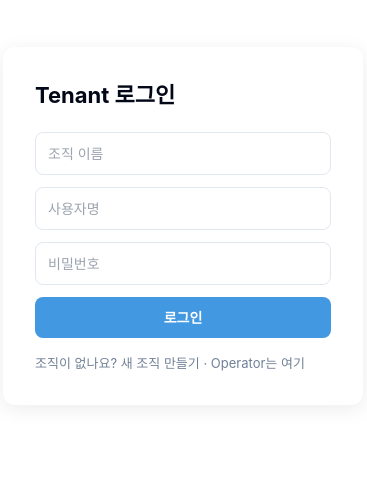
Test: TenantLogin — 가입/로그인 + 비밀번호 확인·정책 (issue 209·211) › 중복 조직 이름(409)이면 안내 메시지를 보여준다
This screenshot has width=367, height=493.
Click the link "새 조직 만들기": (160, 363) [121,355,200,371]
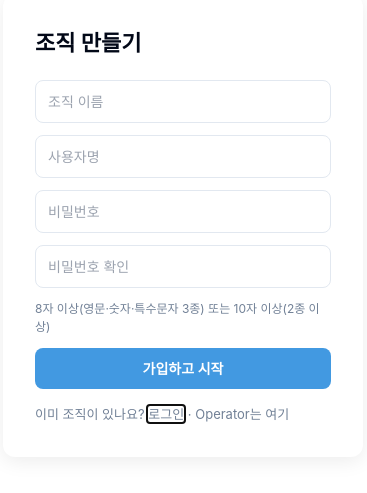
In the field with placeholder "조직 이름": (183, 102) [35,80,331,123], type "Dup"
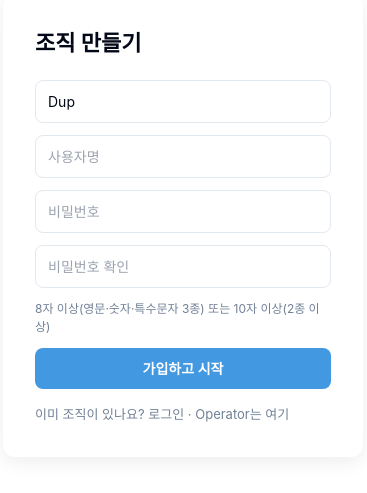
In the field with placeholder "사용자명": (183, 157) [35,135,331,178], type "owner"
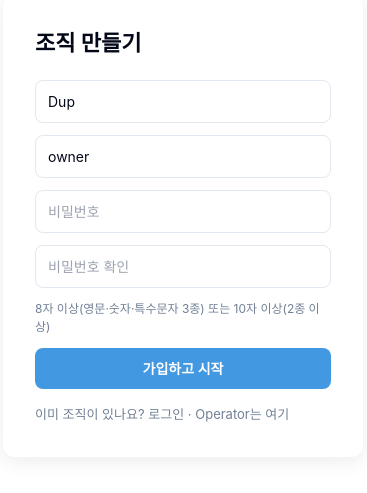
In the password field with placeholder "비밀번호": (183, 212) [35,190,331,233], type "pw12345678"
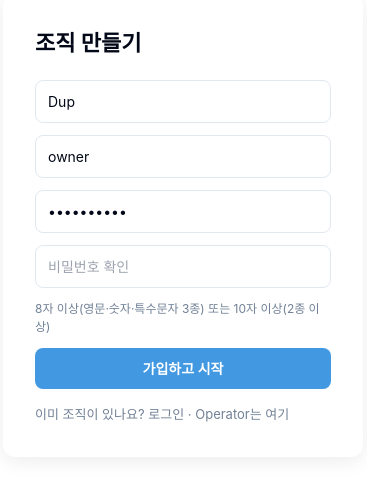
In the password field with placeholder "비밀번호 확인": (183, 267) [35,245,331,288], type "pw12345678"
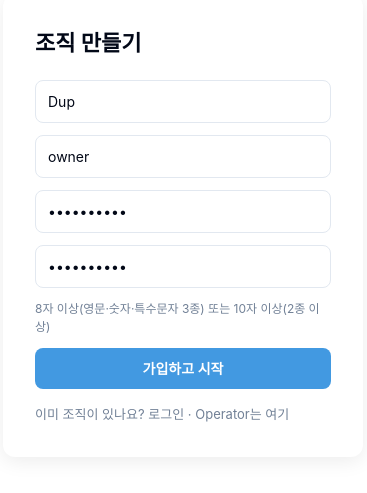
Click the button "가입하고 시작": (183, 369) [35,348,331,389]
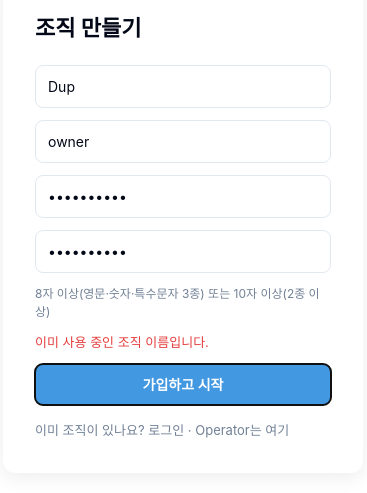
Expected: the text "이미 사용 중인 조직 이름입니다." is shown, [35,334,209,350]
